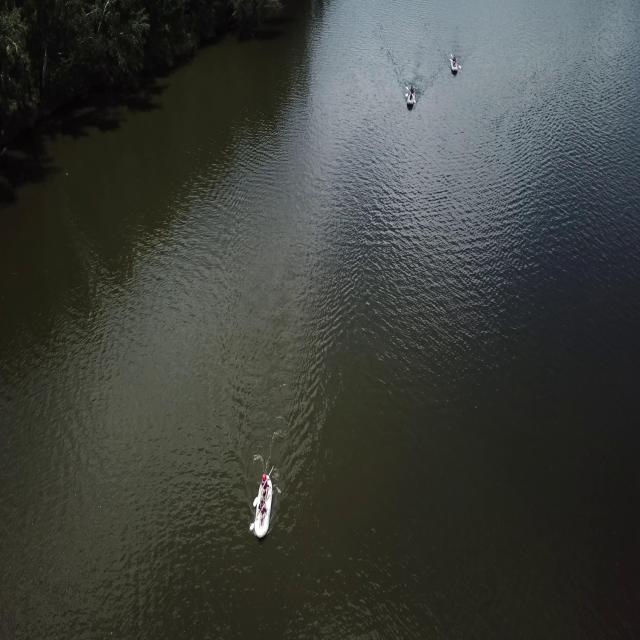kayak: (250, 472, 276, 544), (406, 86, 418, 114), (449, 56, 460, 78)
